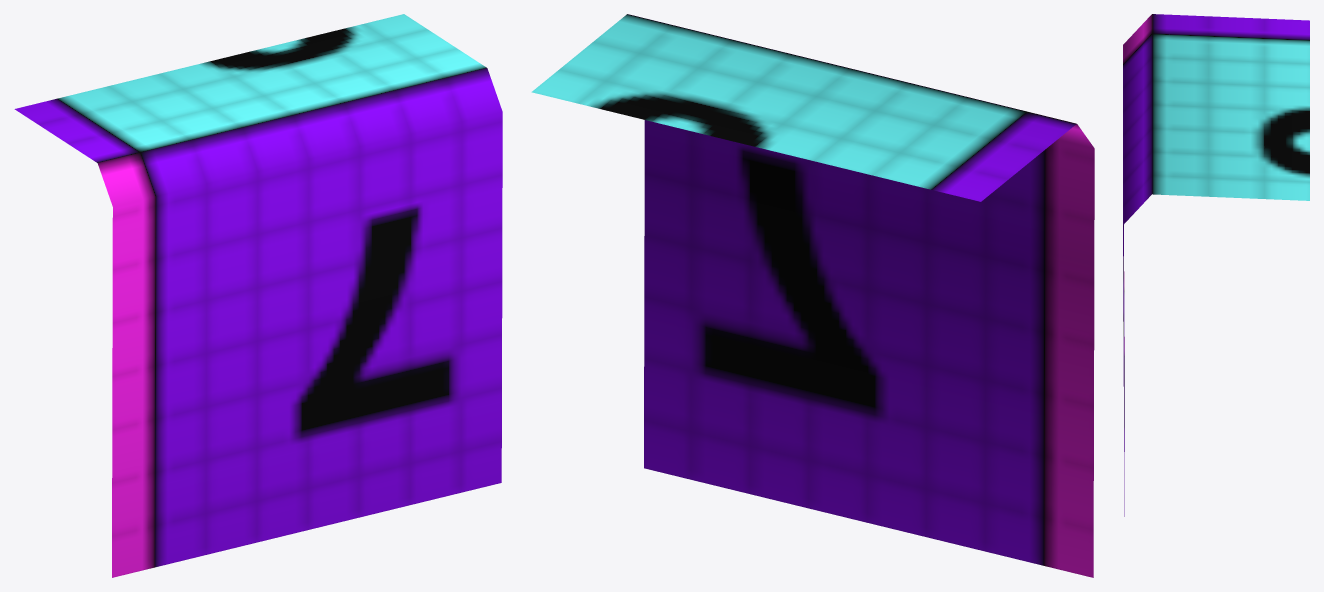
Rendered from Vines03.fbx.
The picture shows the model from 3 angles, left to right: view 1: azimuth 30°, elevation 25°; view 2: azimuth 150°, elevation 25°; view 3: azimuth 270°, elevation 25°; orthographic projection. The views are drawn at different scales.
Visible parts, largest first — view 1: vines03; view 2: vines03; view 3: vines03.
Boxes of the visible parts, x1,y1,x2,y2 form: vines03: (14, 14, 502, 577); vines03: (531, 14, 1094, 577); vines03: (1123, 14, 1309, 516).
Bounding box in the file's own units: 6.89 × 6.83 × 3.02.
Materials: 1 (1 with a texture image).
